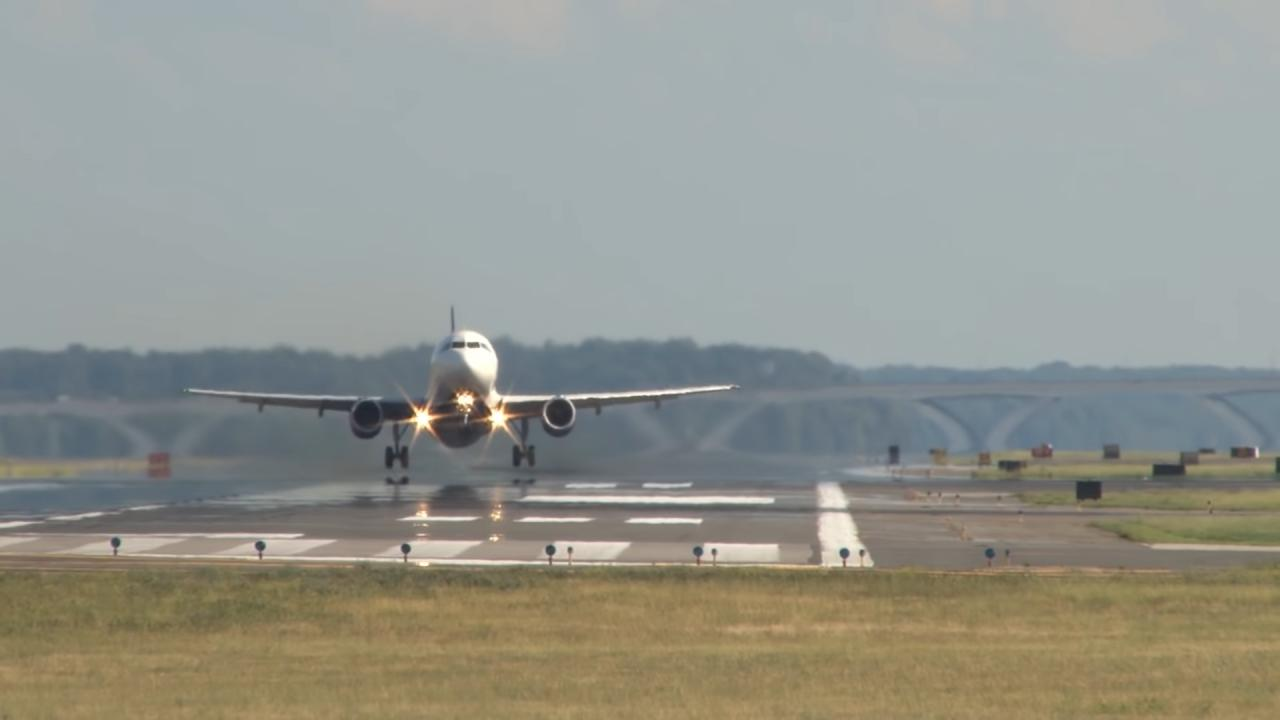Airplane: (169, 292, 752, 485)
